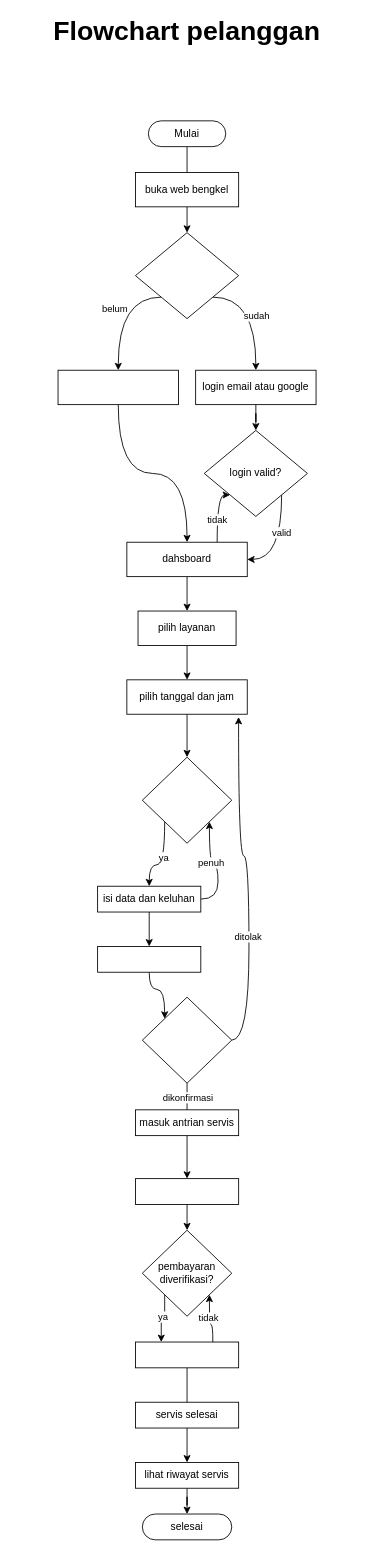
Some shapes in this 373 by 1555 pixel diagram are drawn without their labels. Here are the shapes that lost their labels. From the top down, the centre of each, then its label:
At (x=187, y=275): "sudah punya akun?".
At (x=117, y=387): "daftar akun atau google".
At (x=186, y=799): "tersedia?".
At (x=149, y=959): "kirim booking".
At (x=186, y=1039): "admin konfirmasi".
At (x=187, y=1191): "kirim bukti tf".
At (x=187, y=1354): "servis dikerjakan".
